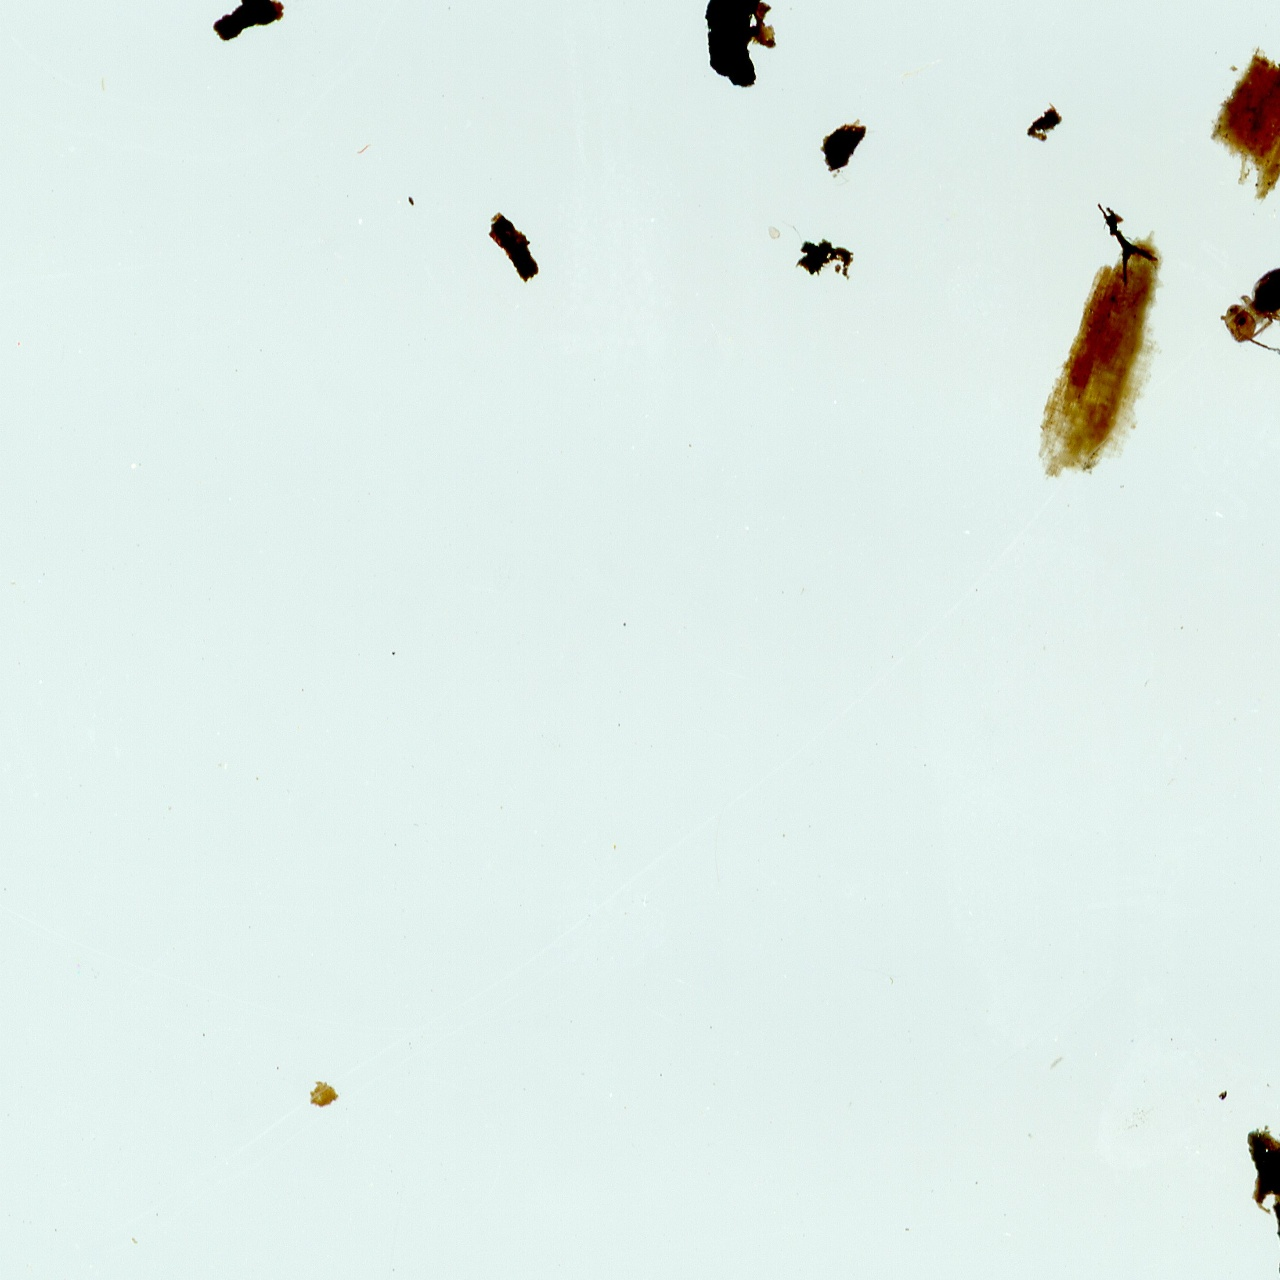arthropod: (1214, 260, 1280, 363)
